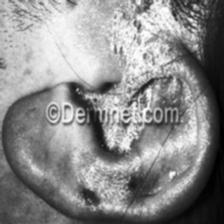Non-Cancerous Skin Condition: (0, 127, 182, 224)
